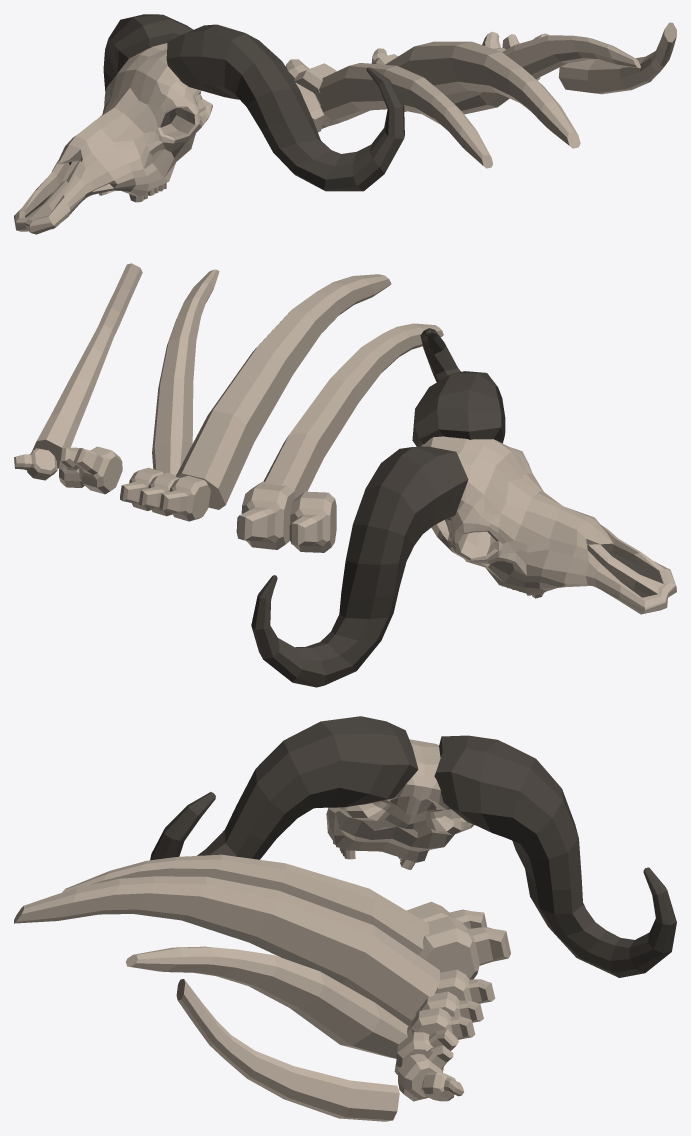
File: buffalo.skeleton.fbx
The picture shows the model from 3 angles, top to bottom: view 1: azimuth 30°, elevation 25°; view 2: azimuth 150°, elevation 25°; view 3: azimuth 270°, elevation 25°; orthographic projection. The views are drawn at different scales.
Visible parts, largest first — view 1: Cube.002, Cube; view 2: Cube.002, Cube; view 3: Cube, Cube.002.
Part boxes in pixels (left/top/right/bottom): Cube.002: left=14, top=14, right=404, bottom=234; Cube: left=285, top=22, right=676, bottom=168; Cube.002: left=251, top=328, right=676, bottom=687; Cube: left=14, top=263, right=443, bottom=552; Cube: left=14, top=854, right=510, bottom=1121; Cube.002: left=150, top=716, right=676, bottom=977.
Size of the model in its own units: 1979 by 657 by 1624.
